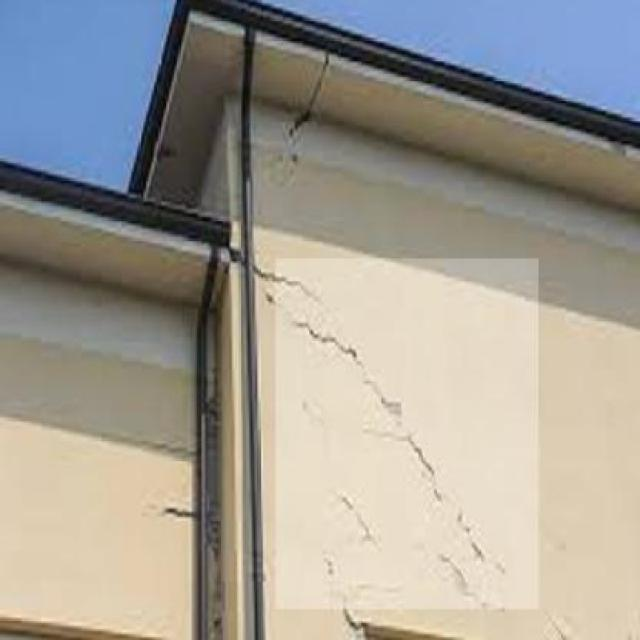Crack: (260, 257, 533, 584)
